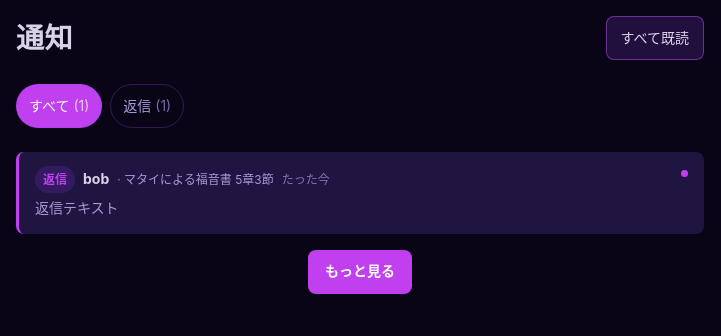
NotificationsPage › 続きがあるとき「もっと見る」で次のページを足す
Click the button "もっと見る" at x=360, y=272, box left=308, top=250, right=412, bottom=294
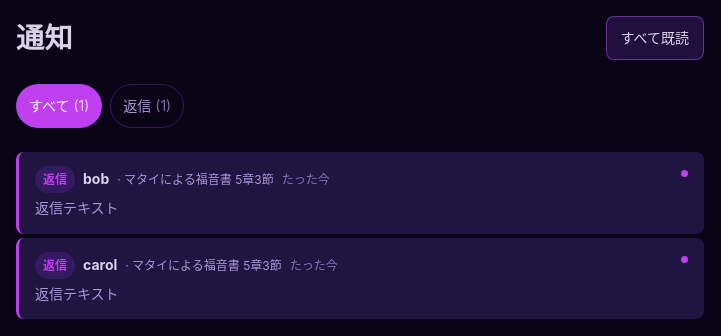
Expected: the text "bob" is shown, left=83, top=168, right=109, bottom=191
Now the text "carol" is shown, box left=83, top=254, right=117, bottom=276
